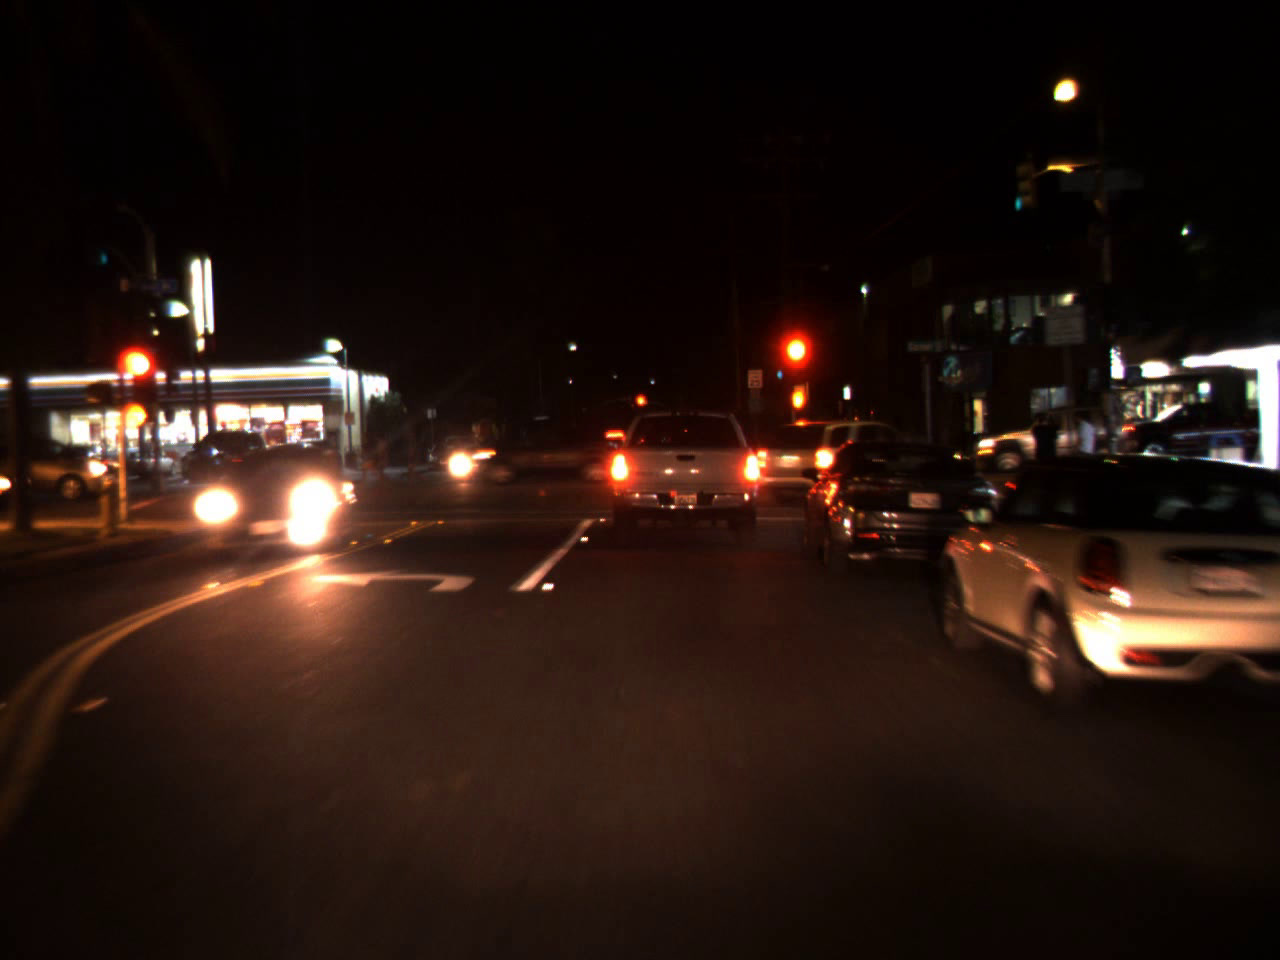stop: (116, 343, 159, 421), (776, 334, 810, 390), (633, 392, 648, 421)
